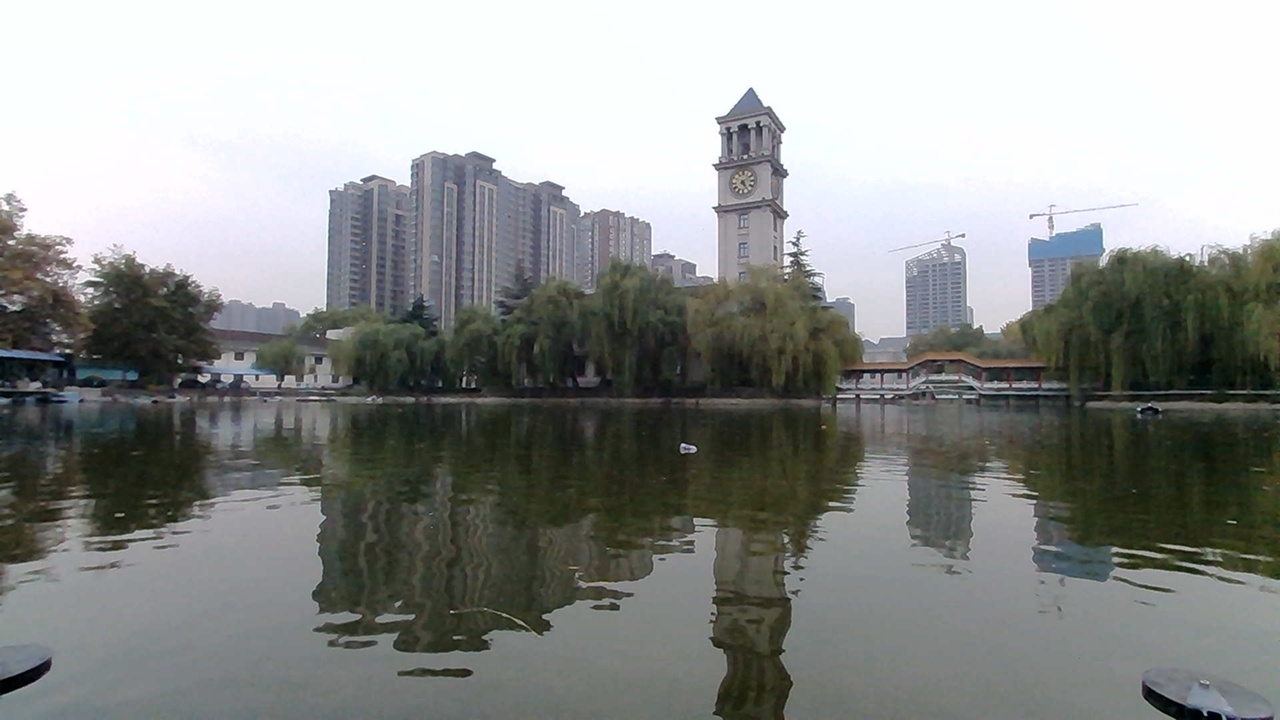bottle: (670, 432, 722, 470)
